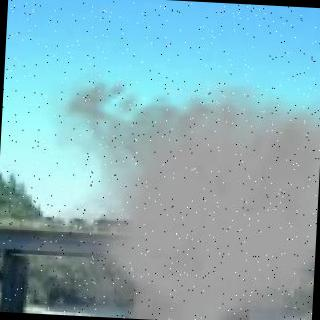smoke: (52, 68, 320, 320)
